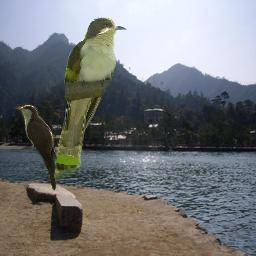Cuckoo: (53, 17, 127, 182), (15, 104, 59, 192)
